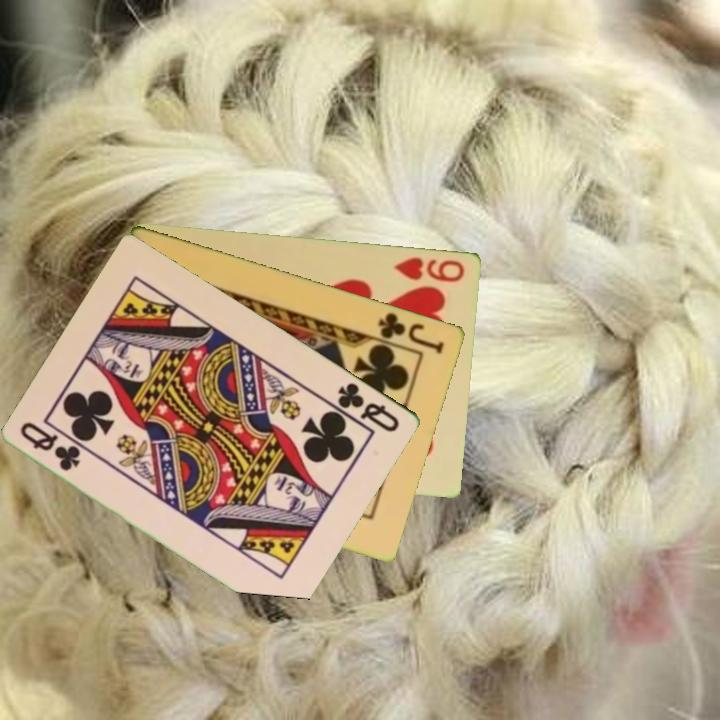9h: (392, 253, 468, 285)
Jc: (375, 308, 448, 357)
Qc: (334, 378, 403, 435), (17, 418, 85, 474)
